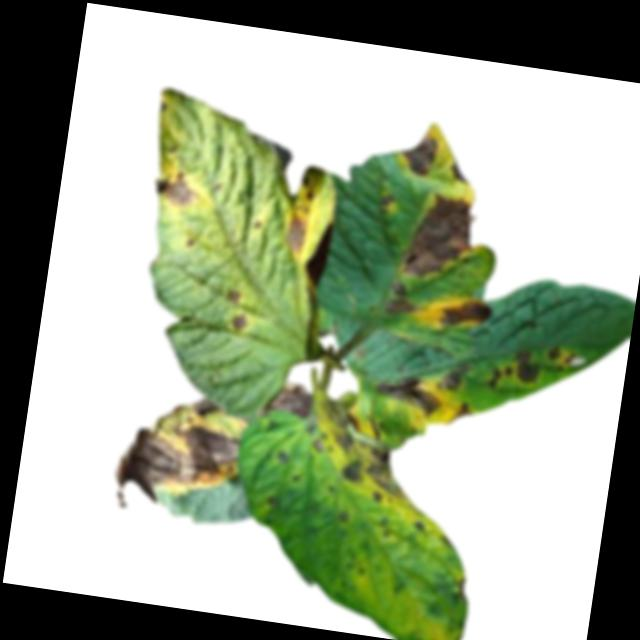Early_blight: (111, 384, 251, 526), (399, 188, 479, 286), (361, 439, 421, 510), (371, 370, 443, 420), (316, 396, 364, 453), (437, 294, 490, 340), (151, 168, 203, 213), (264, 378, 313, 422), (398, 133, 439, 183), (381, 282, 421, 320), (438, 359, 475, 397), (281, 213, 310, 259), (513, 346, 543, 386), (542, 341, 576, 375), (338, 455, 367, 492), (485, 362, 513, 393), (450, 397, 475, 428), (447, 161, 476, 185), (379, 192, 399, 218), (298, 177, 317, 202), (230, 311, 251, 332), (273, 448, 291, 468), (225, 289, 244, 307), (409, 520, 427, 537), (265, 495, 282, 513), (337, 509, 350, 526)
